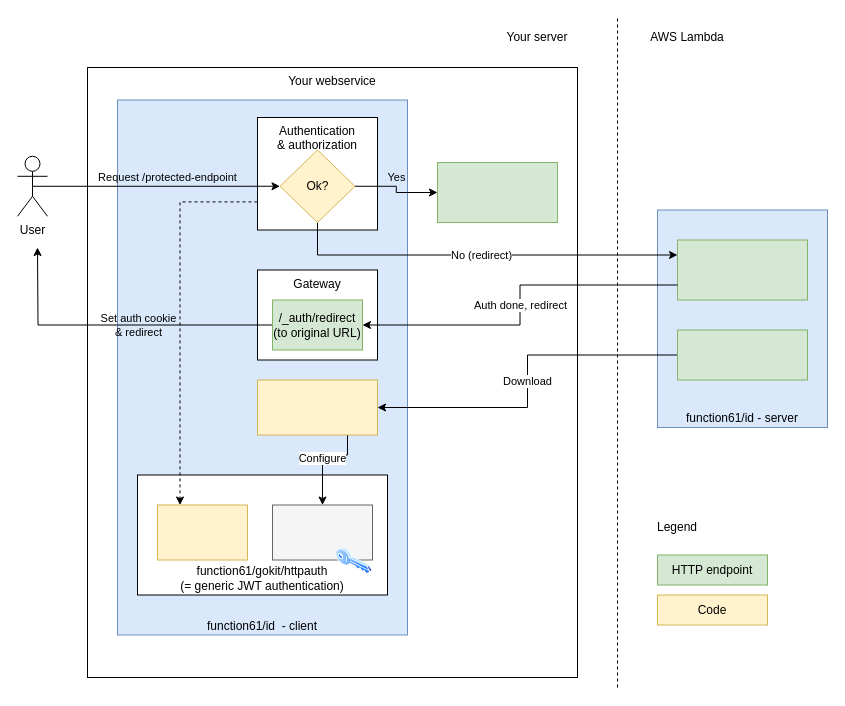
The diagram is 845 pixels wide and 706 high, and some of its shapes have lost their labels. Each missing label, with the box of its shape:
/.well-known/jwks.json: (676, 329, 808, 380)
/login: (676, 239, 808, 300)
/protected-endpoint: (436, 162, 558, 222)
Authenticate(): (156, 504, 248, 560)
Initialization: (256, 379, 378, 435)
JWT trusted signing pubkey: (272, 504, 372, 560)
